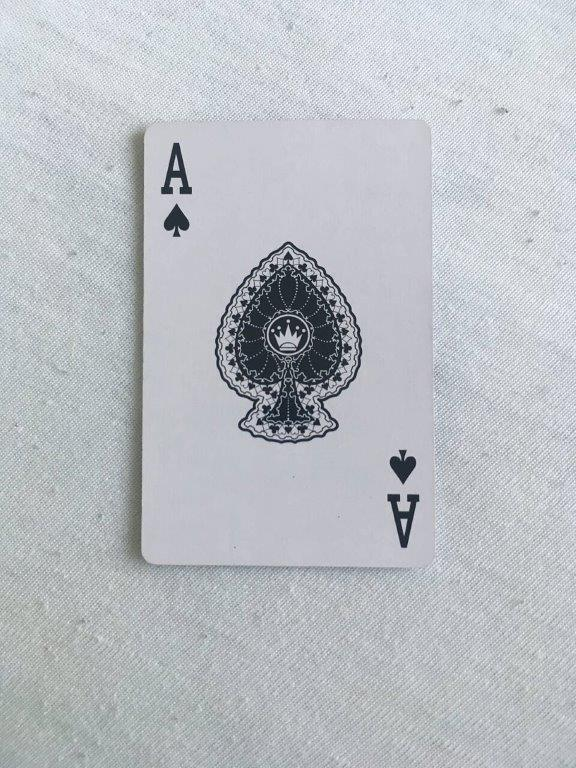AS: (137, 115, 440, 572)
